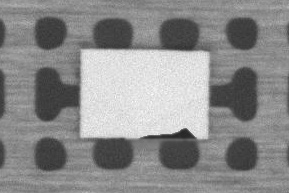DIE_BROKEN: (142, 126, 198, 139)
